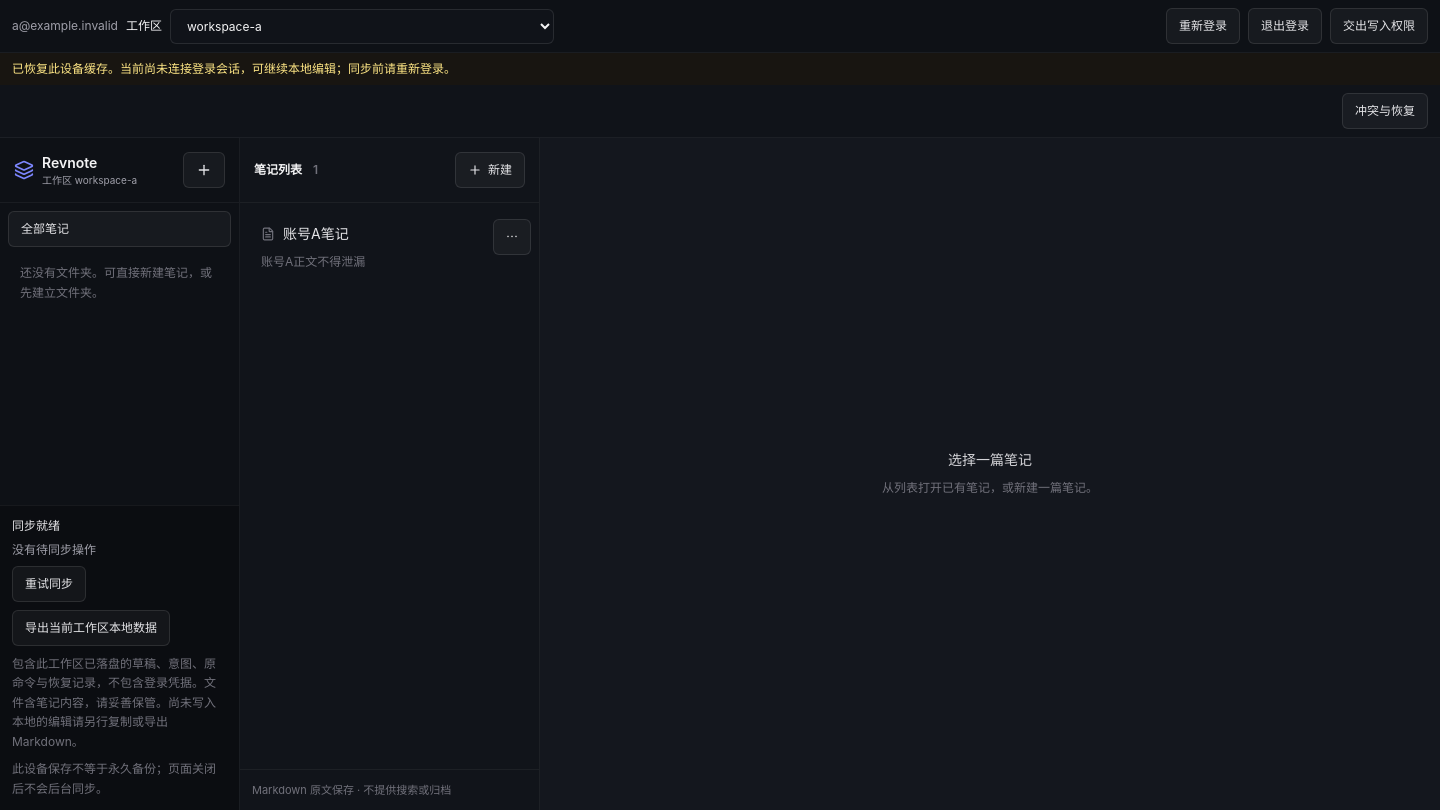
Test: readonly cross-tab identity visibility › keeps an operable acquire entry in App after normal handoff
Step 1. Click the button "交出写入权限" → coordinates (1379, 26), box top-left (1330, 8), bottom-right (1428, 44)
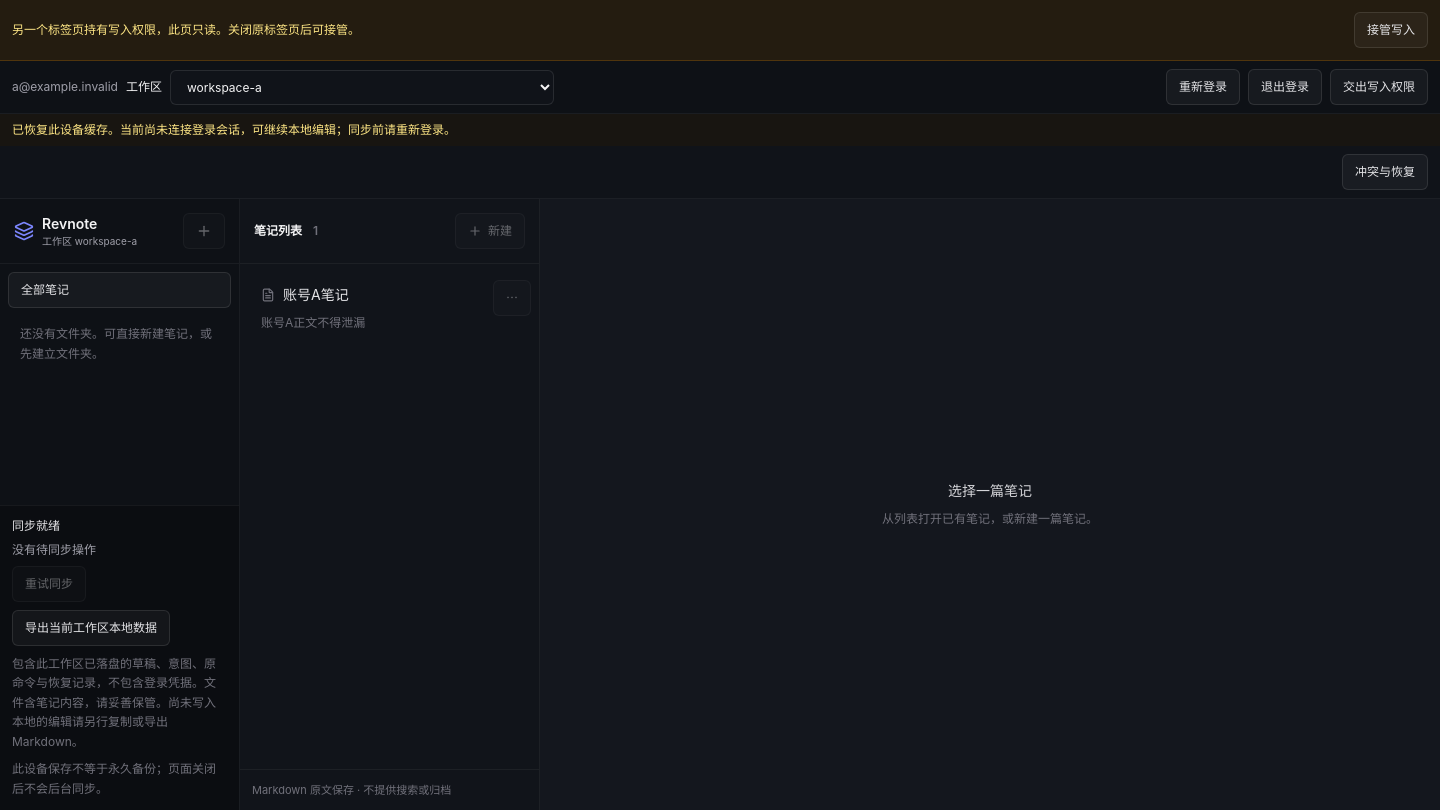
Step 2. Click the button "接管写入" → coordinates (1391, 30), box top-left (1354, 12), bottom-right (1428, 48)
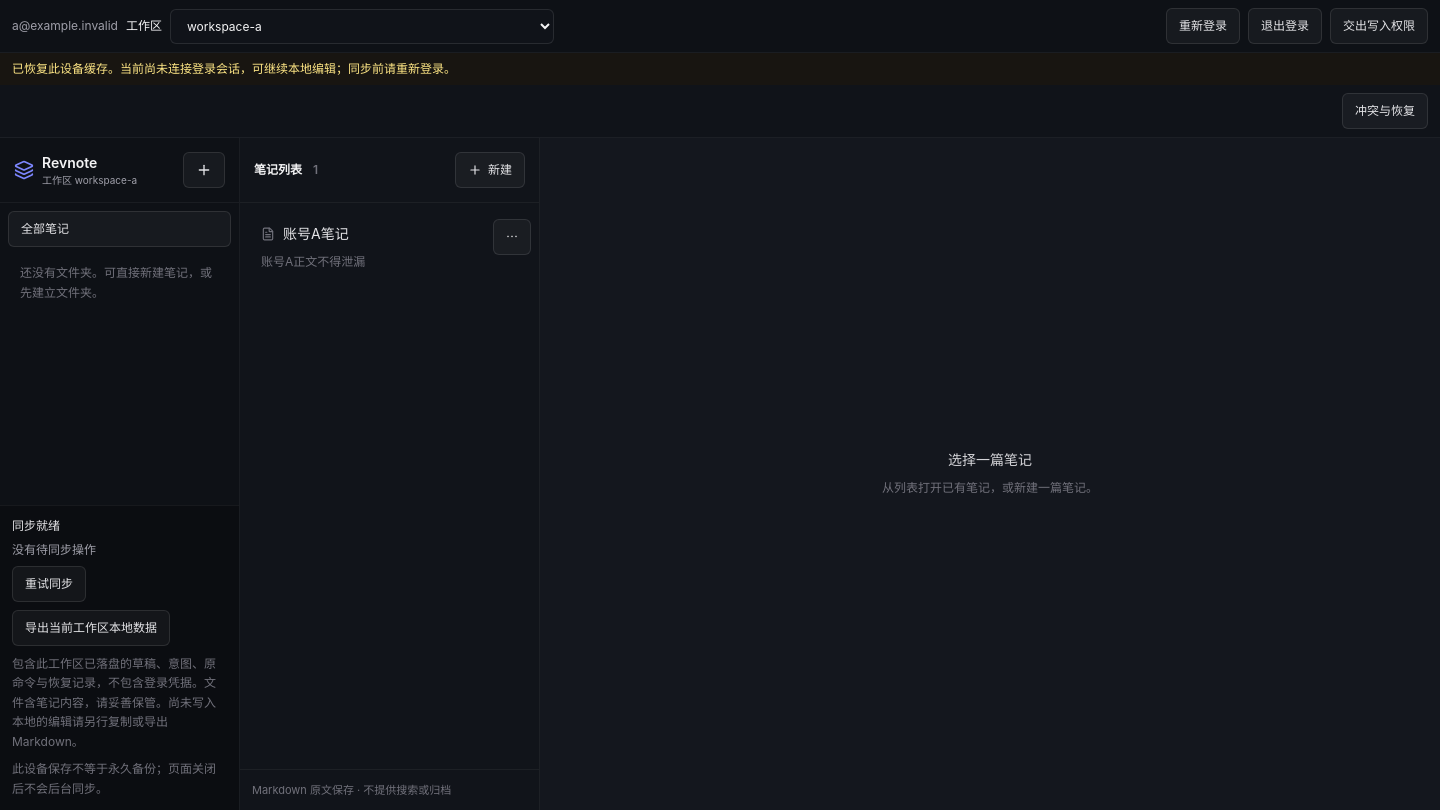
Expected: the button "交出写入权限" is shown, top-left (1330, 8), bottom-right (1428, 44)
Now the button "接管写入" is gone
